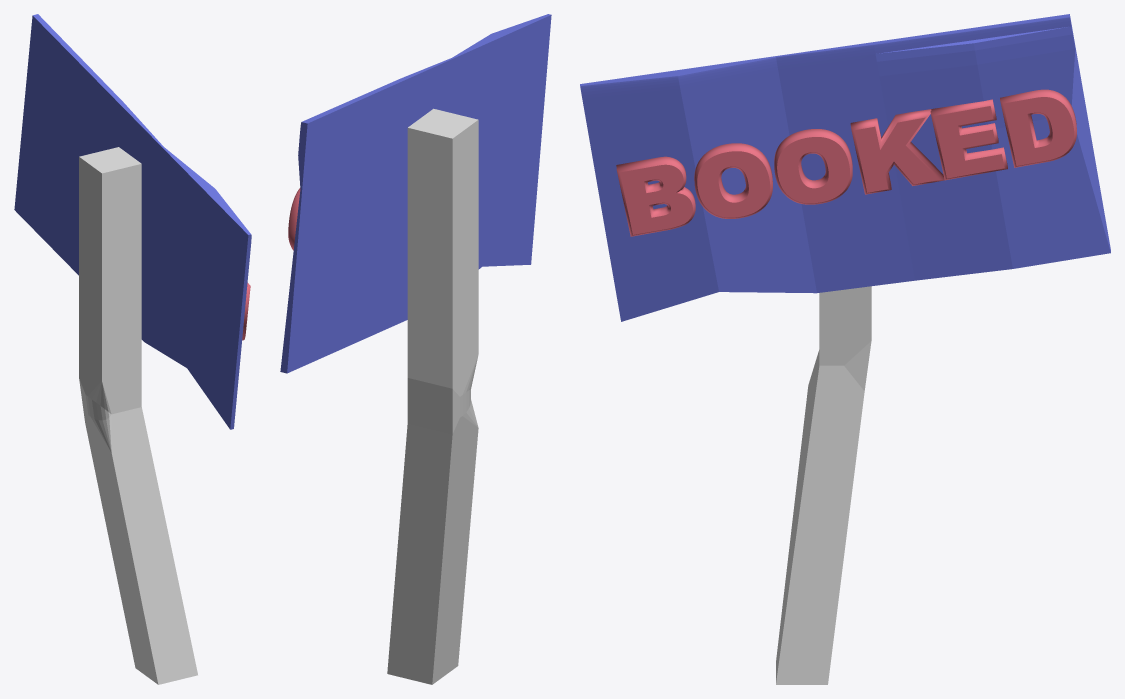
The model's file is booked_sign.fbx.
3 views of the same model, side by side, from view 1: azimuth 30°, elevation 25°; view 2: azimuth 150°, elevation 25°; view 3: azimuth 270°, elevation 25° (orthographic). The views are drawn at different scales.
Parts seen in each view (by area): view 1: Cube.001, Cube; view 2: Cube.001, Cube; view 3: Cube.001, Text, Cube.
Boxes of the visible parts, x1,y1,x2,y2 form: Cube.001: (14, 14, 251, 429); Cube: (79, 147, 197, 684); Cube.001: (280, 14, 551, 373); Cube: (387, 108, 478, 684); Cube.001: (580, 14, 1110, 321); Text: (616, 89, 1076, 236); Cube: (776, 286, 871, 684).
Bounding box in the file's own units: 20.76 × 148 × 109.
